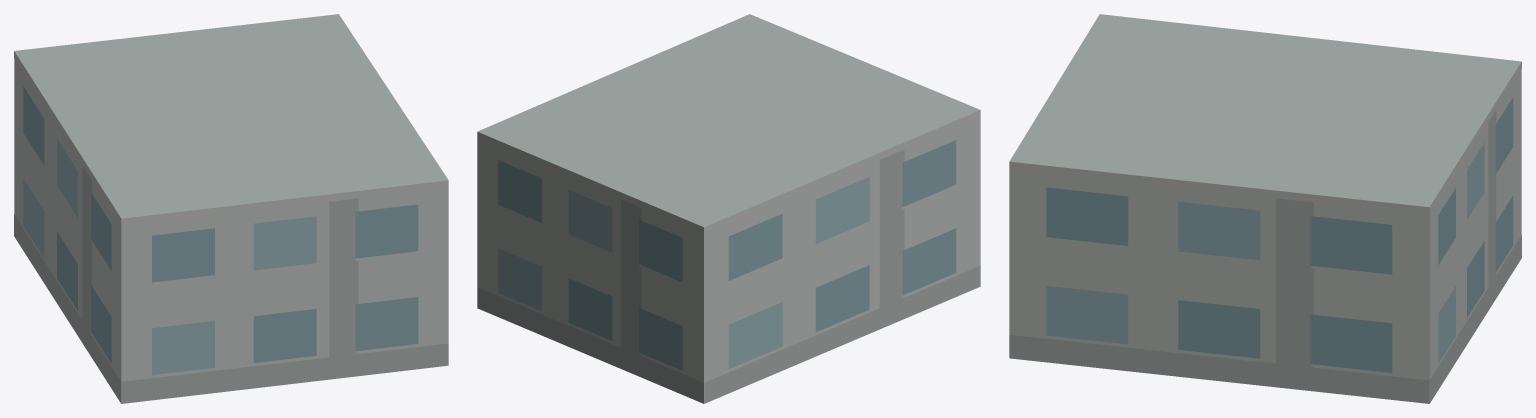
File: survey-upis-32871084.glb
The picture shows the model from 3 angles, left to right: view 1: azimuth 30°, elevation 25°; view 2: azimuth 150°, elevation 25°; view 3: azimuth 270°, elevation 25°; orthographic projection. The views are drawn at different scales.
Visible parts, largest first — view 1: survey-upis-32871084.tmp; view 2: survey-upis-32871084.tmp; view 3: survey-upis-32871084.tmp.
Boxes of the visible parts, x1,y1,x2,y2 form: survey-upis-32871084.tmp: [14, 14, 448, 403]; survey-upis-32871084.tmp: [477, 14, 980, 403]; survey-upis-32871084.tmp: [1009, 14, 1521, 403].
Size of the model in its own units: 12.86 by 6.1 by 14.41.
